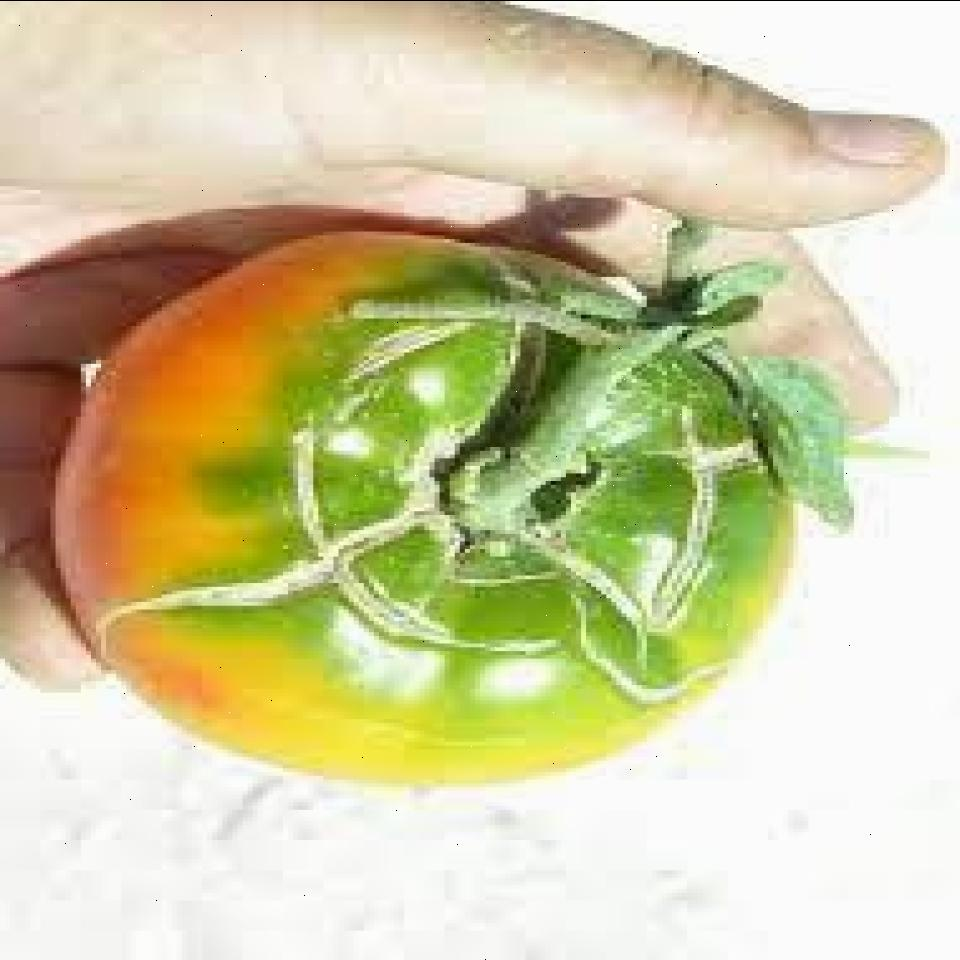Cracking: (282, 236, 608, 692), (50, 506, 428, 668), (534, 594, 770, 746), (648, 383, 782, 604)
